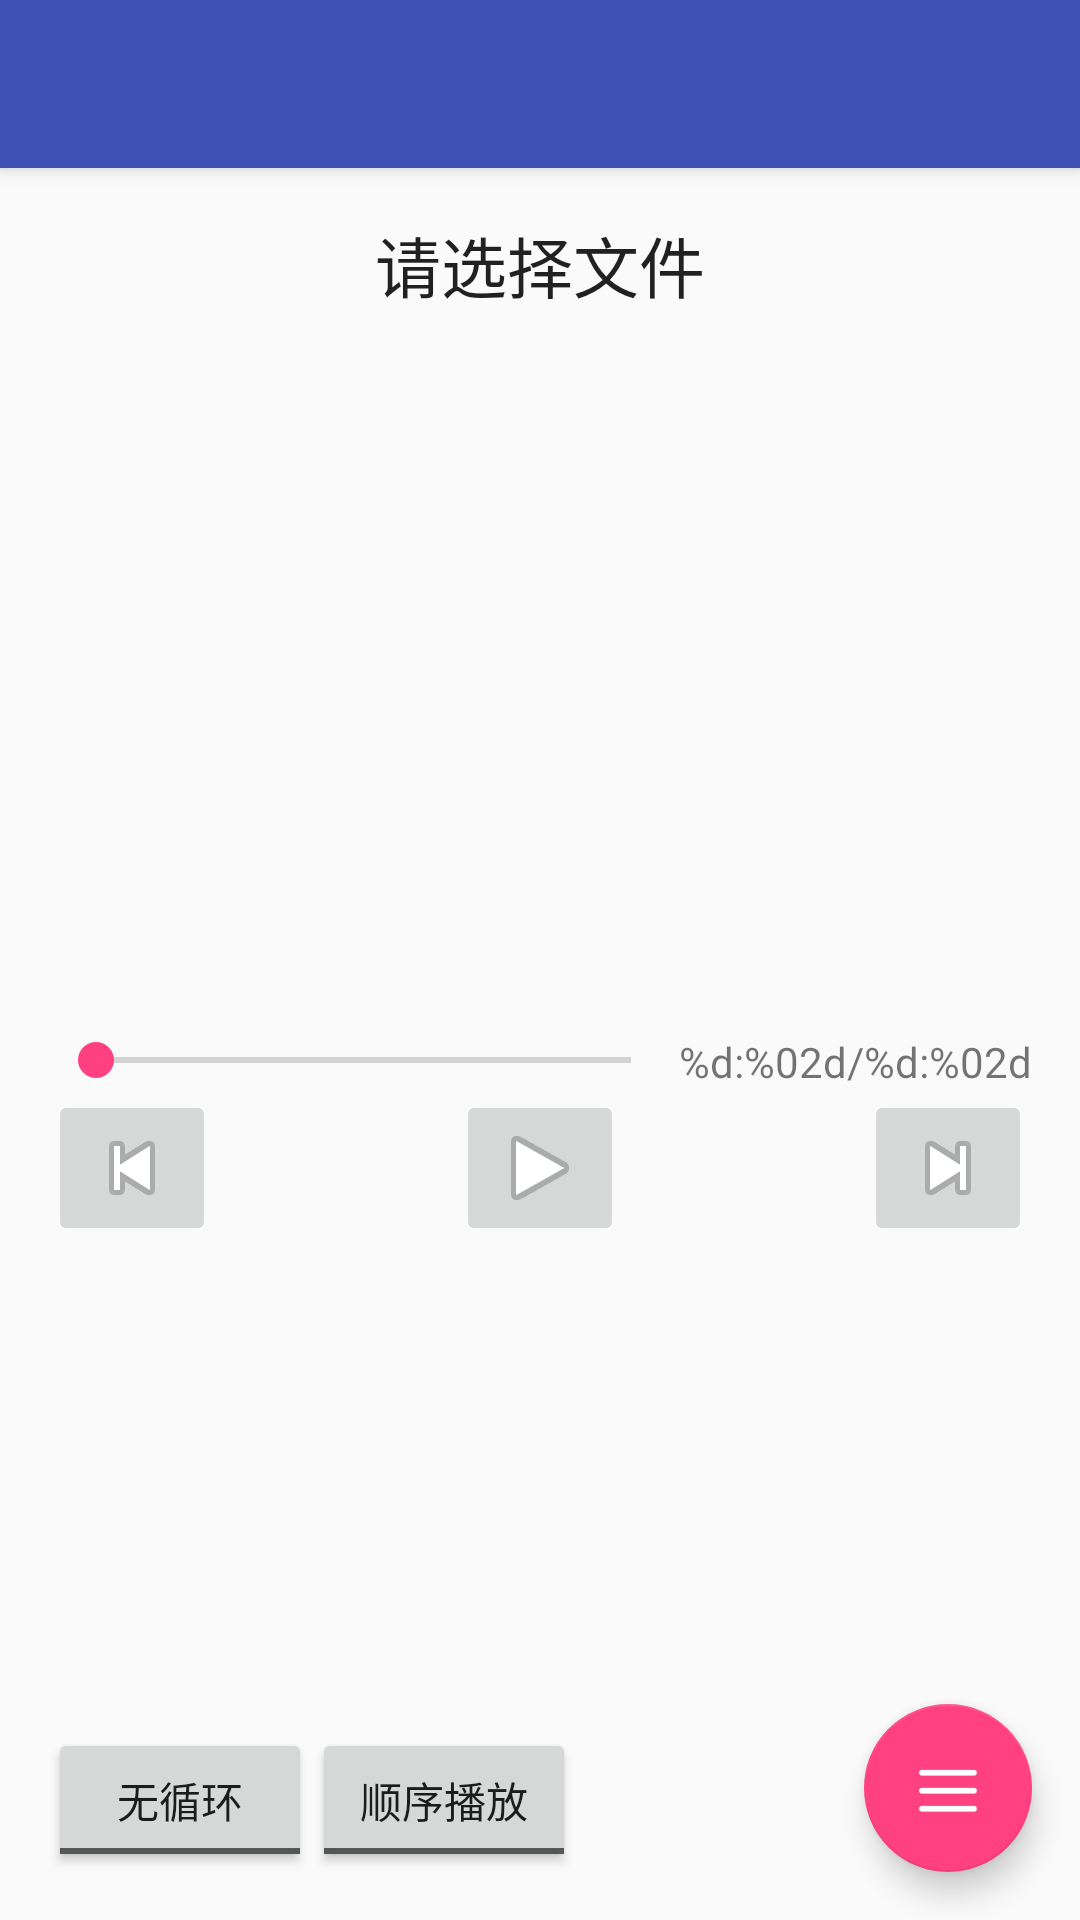

Point at icon controls on the screen. Image size 1080 × 1920, points as (x=x, y=y).
playlist: (x=948, y=1788)
上一曲: (x=132, y=1168)
下一曲: (x=948, y=1168)
播放: (x=540, y=1168)
